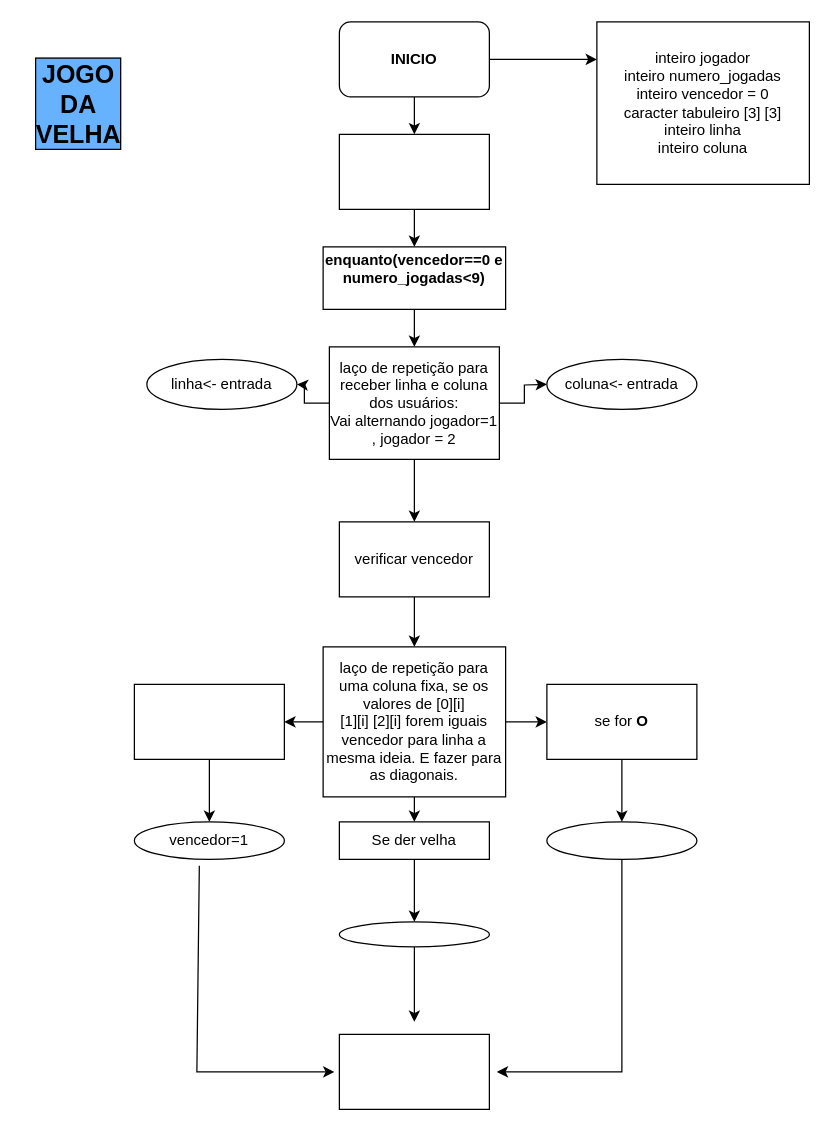
Some shapes in this 831 by 1131 pixel diagram are drawn without their labels. The centre of each missing label's shape, as x and y in pixels:
FIM: (x=413, y=1071)
preencher tabuleiro com ' ' , e apresentar aos jogadores.: (x=413, y=171)
se for X: (x=208, y=721)
vencedor=0: (x=413, y=934)
vencedor=2: (x=621, y=840)
